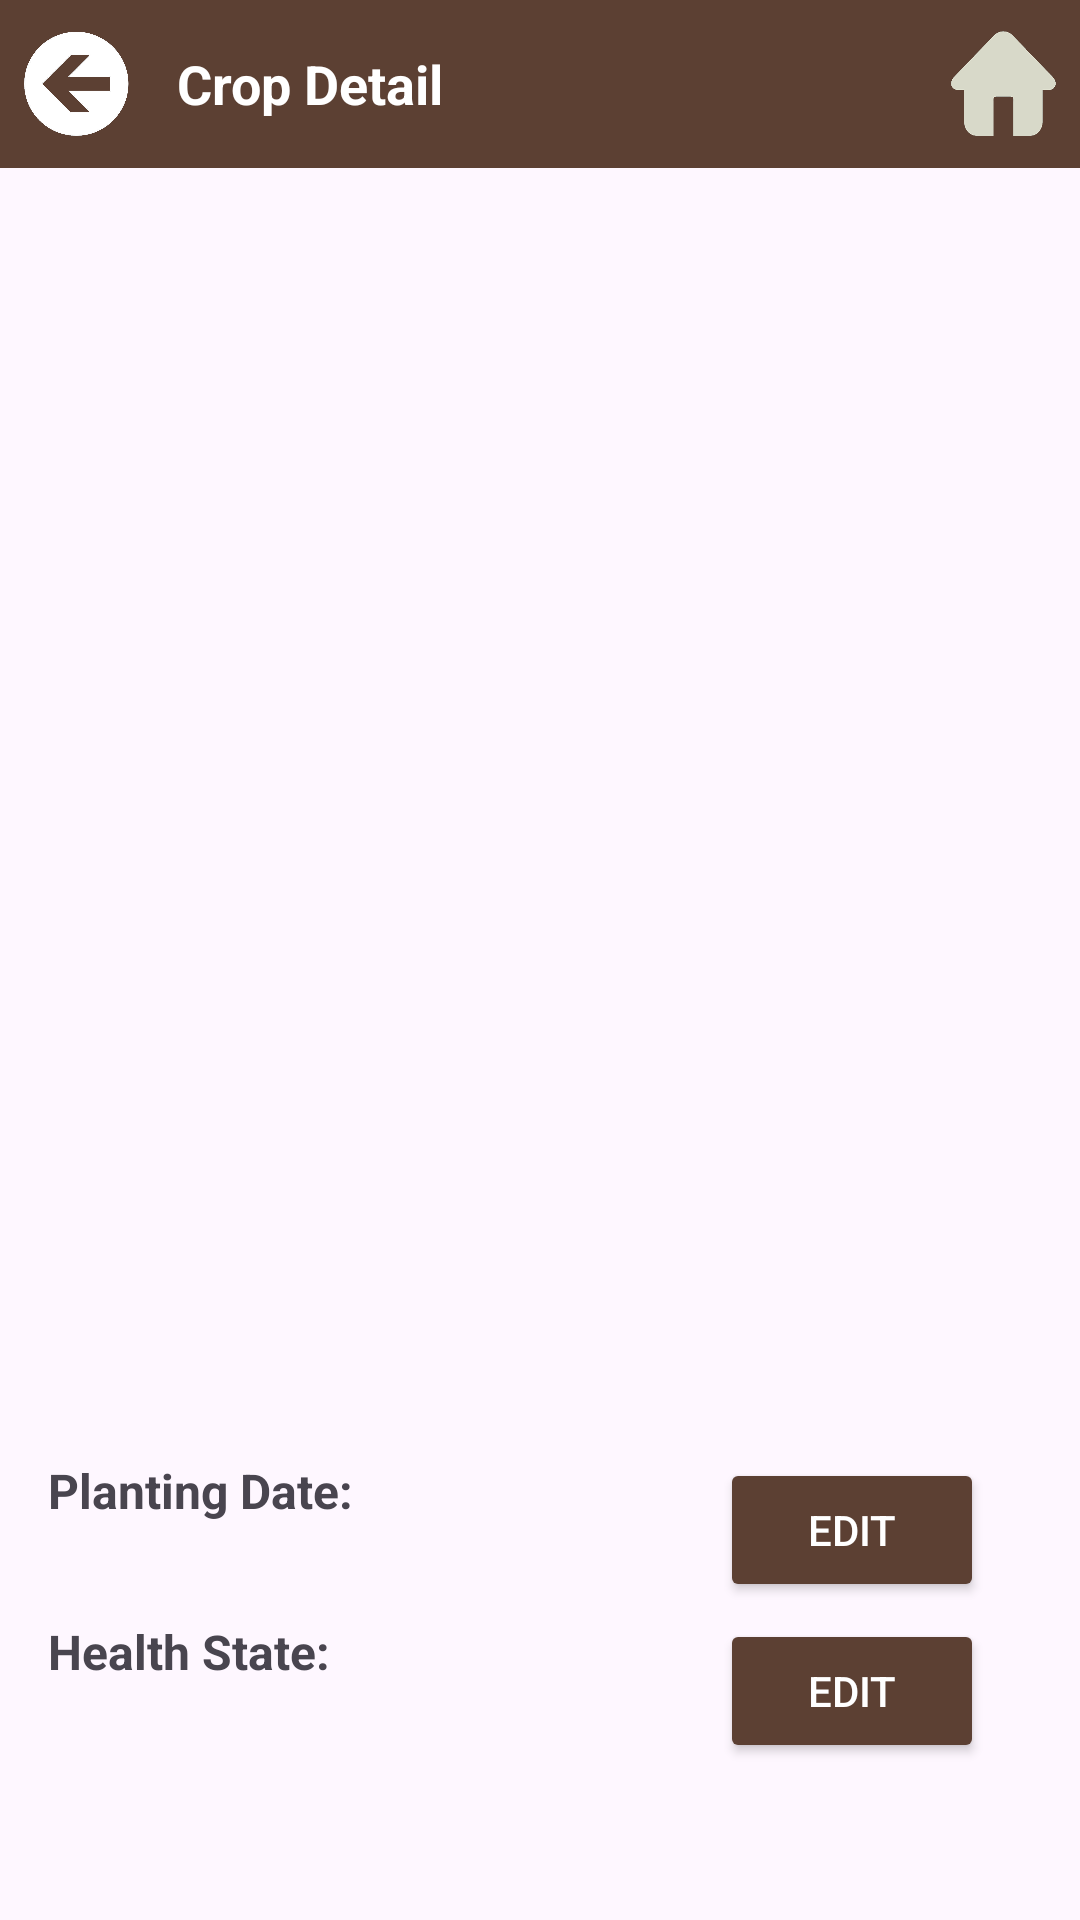

Screen size 1080×1920. Icon name, then its center in pixels as [x,y]:
Back: [76,84]
